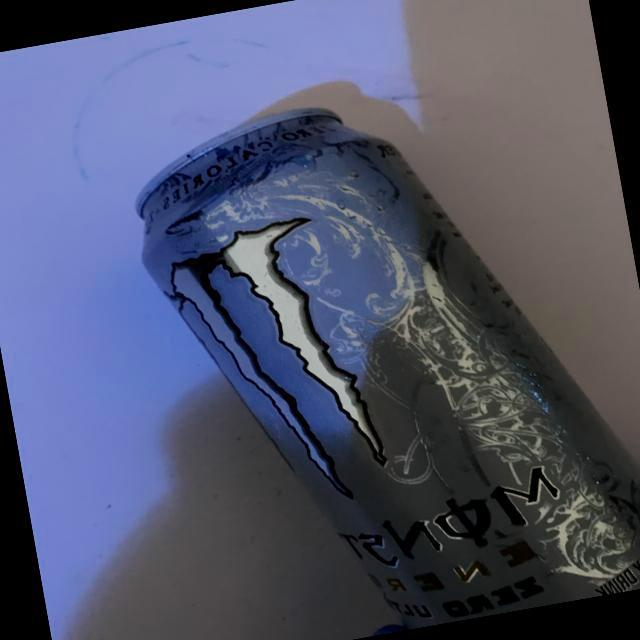metal: (101, 48, 640, 640)
